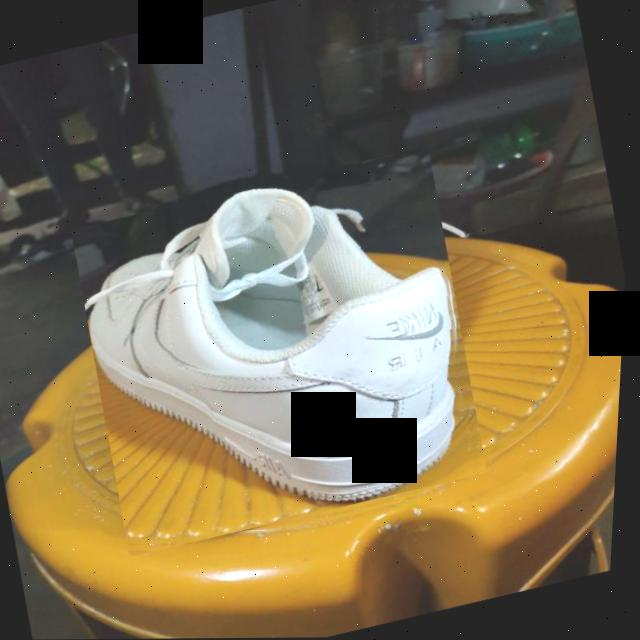shoe: (60, 146, 505, 557)
